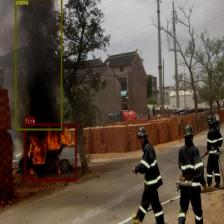fire: (24, 124, 76, 180)
smoke: (15, 0, 62, 130)
